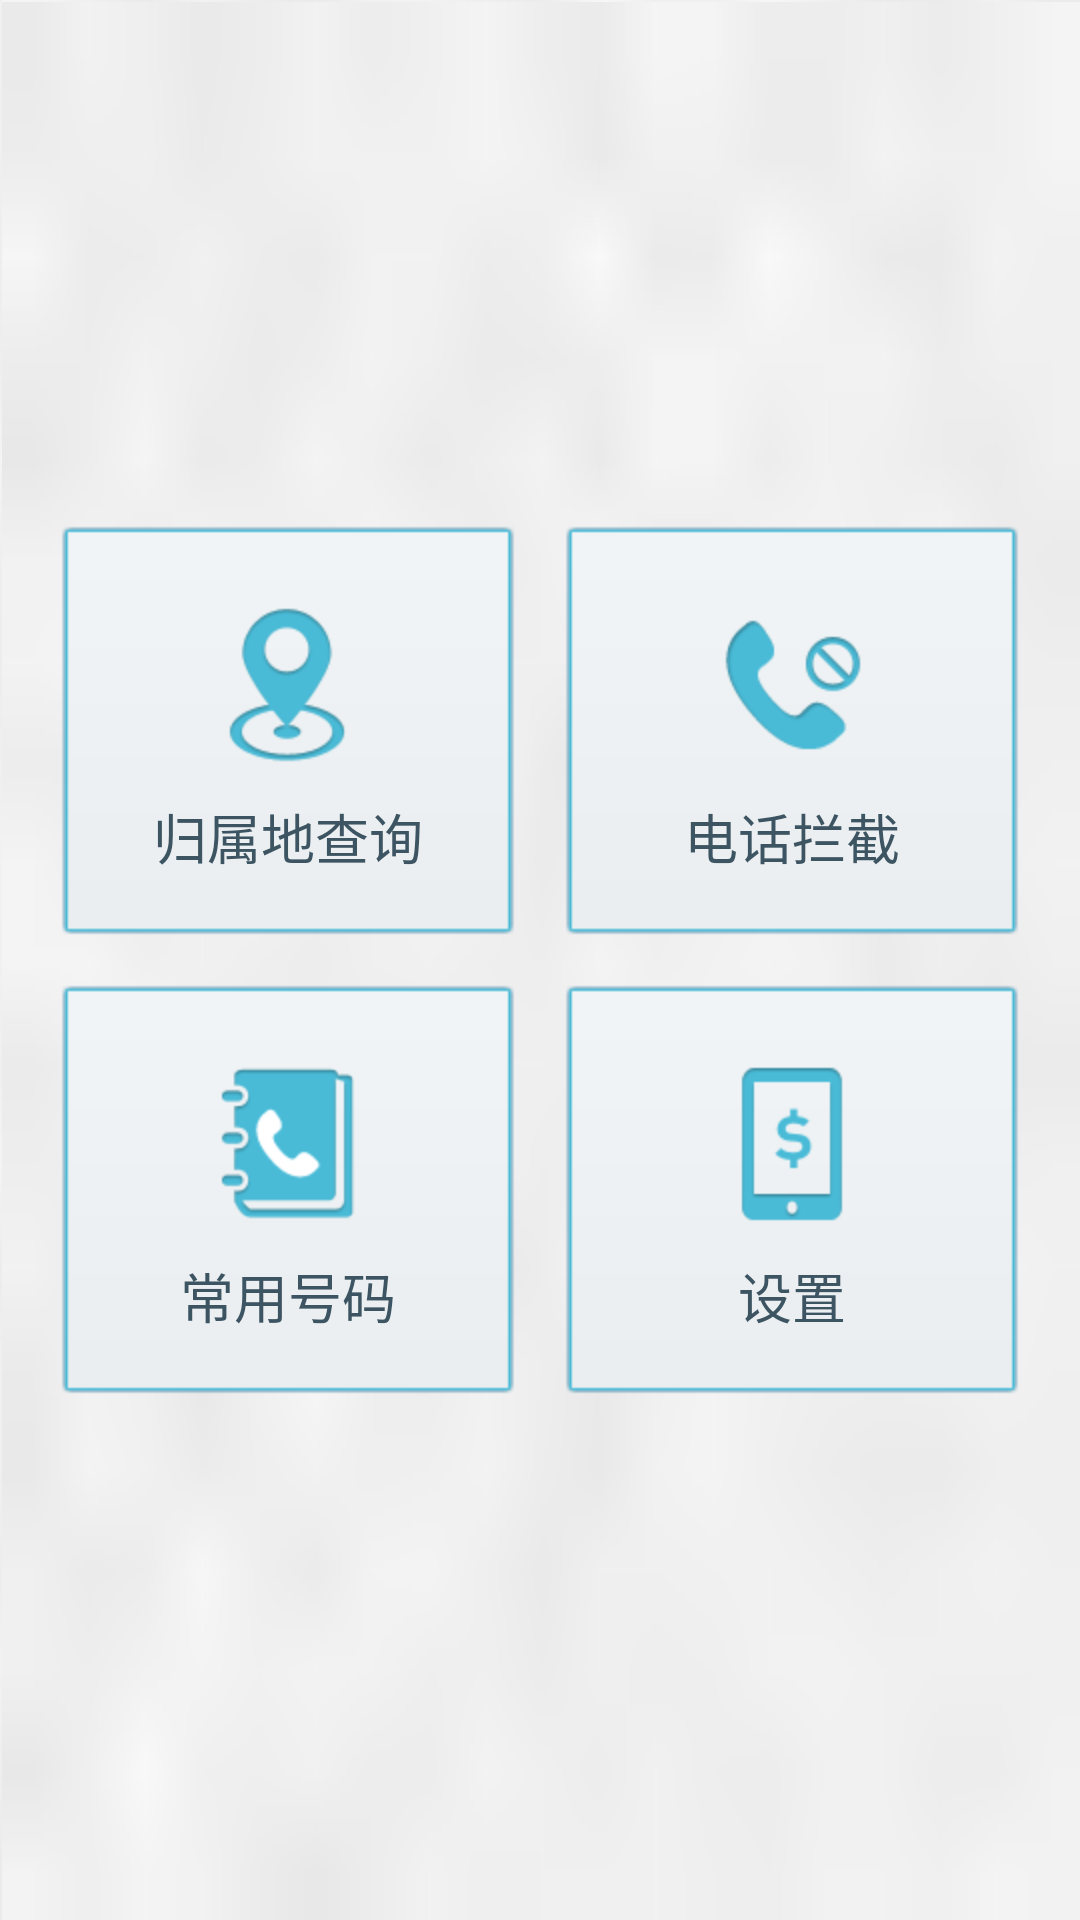

Named icons in this screenshot (1080w x 1920h) and their bounding boxes, box=[x1, y1, x2, y2]:
list item charge: box=[741, 1067, 843, 1221]
list item intercept: box=[725, 620, 861, 750]
list item location: box=[229, 608, 345, 762]
list item number: box=[221, 1068, 354, 1219]
